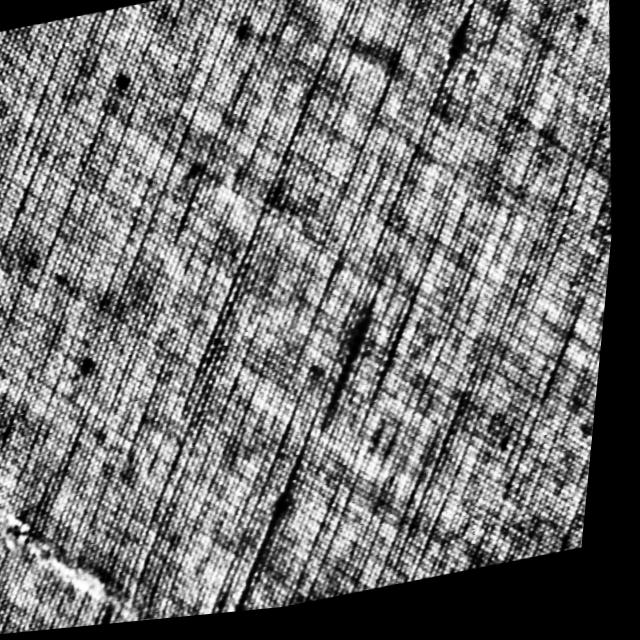Stitch: (0, 479, 190, 637)
